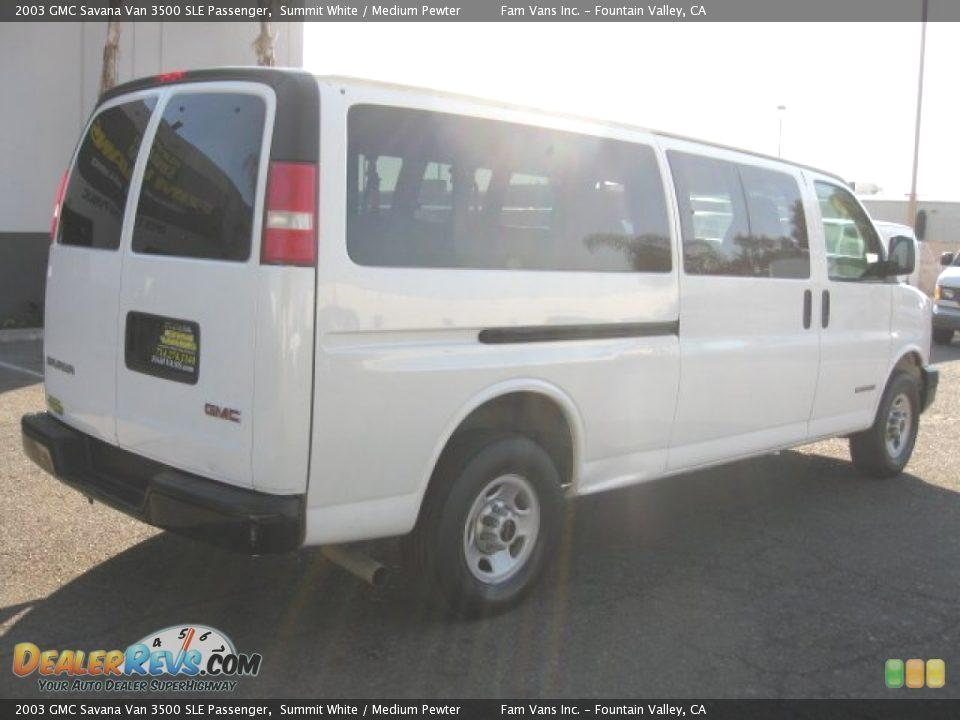GMC: (190, 396, 256, 428)
